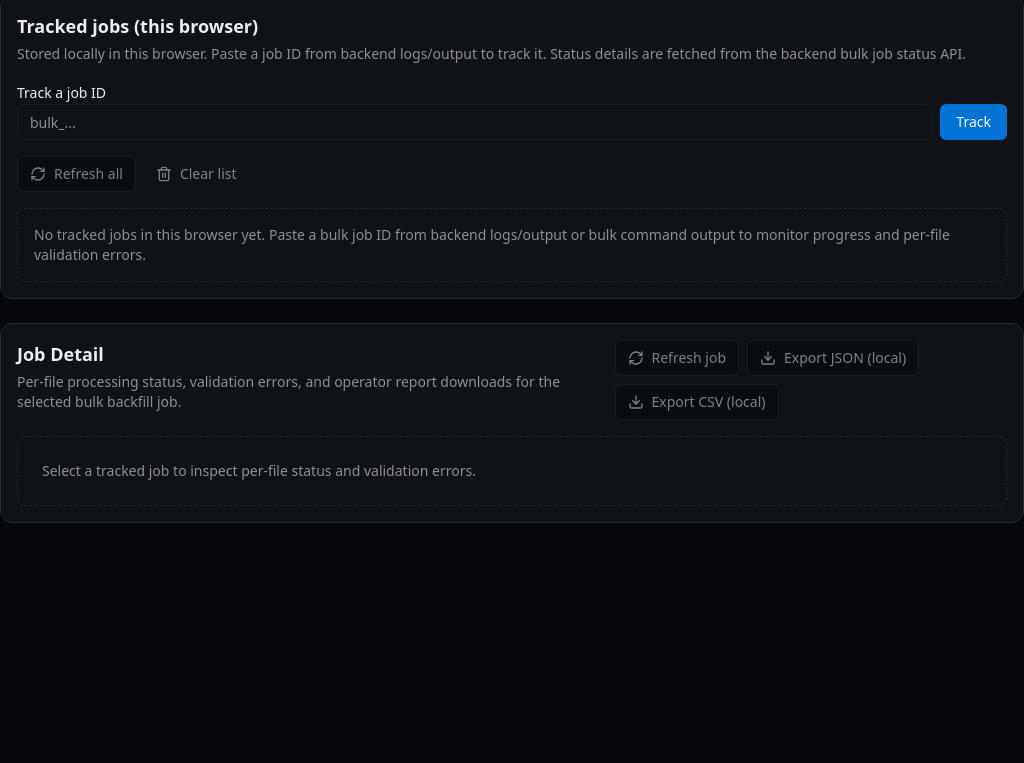
Test: AdminBulkBackfillMonitor › polls in-progress selected jobs and stops after completed
Type "bulk_poll" into the field labelled "Track a job ID" at [475, 122], box [17,104,932,140]
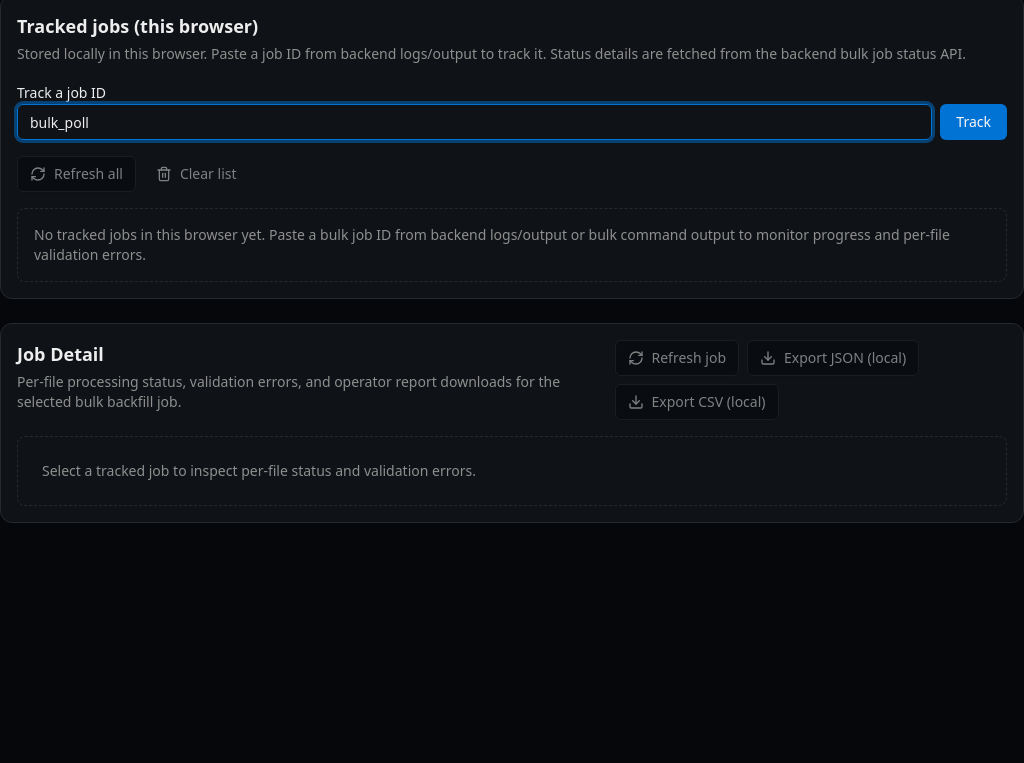
Click the button "Track" at [974, 122], box [940,104,1007,140]
Wait 15000 ms
(page scrolled)
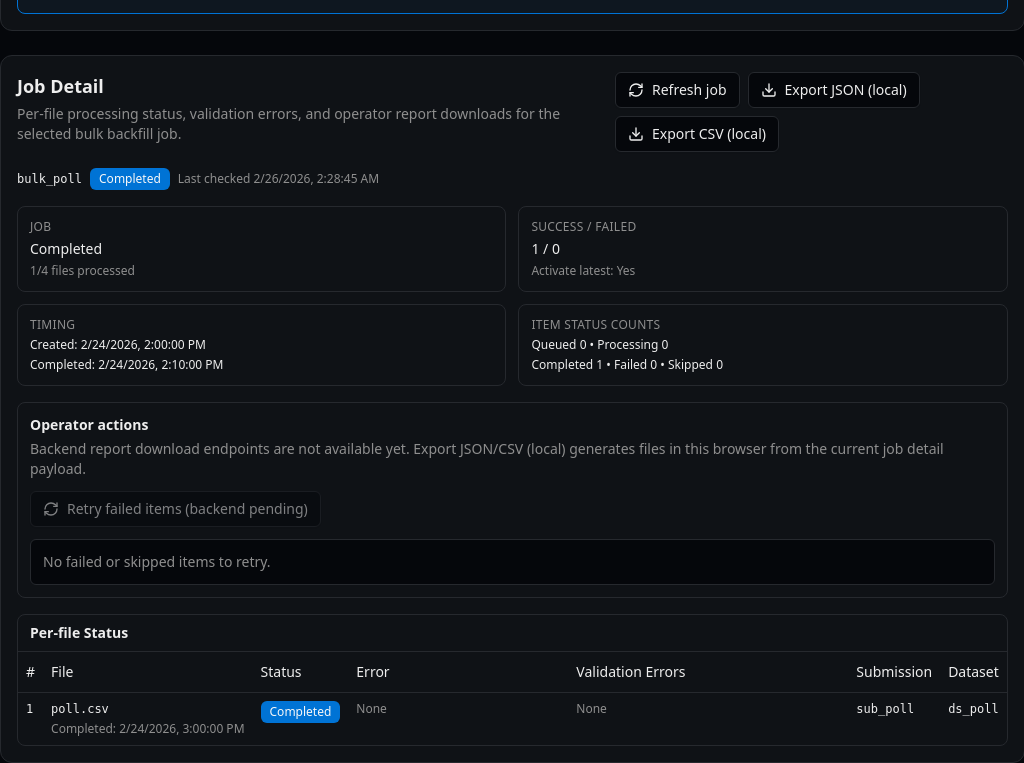
Expected: the text "poll.csv" is shown, [51,702,109,716]
Expected: the text "No failed or skipped items to retry." is shown, [30,539,995,585]
